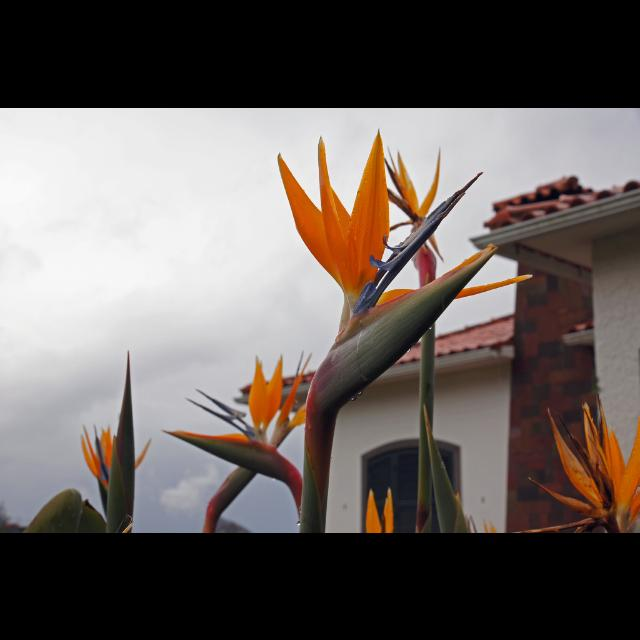Flower: (271, 130, 511, 460), (520, 398, 640, 532), (252, 350, 322, 446), (82, 424, 156, 504), (368, 488, 402, 532)
